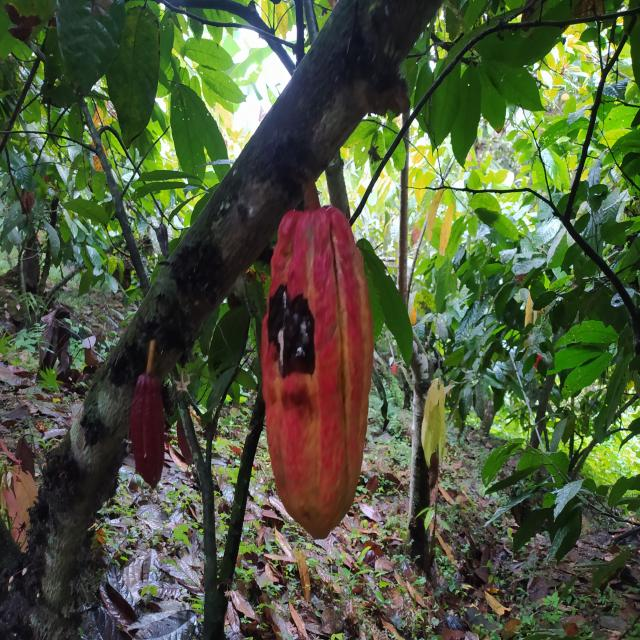Fitoftora: (260, 206, 374, 540)
Sana: (130, 375, 167, 489)
